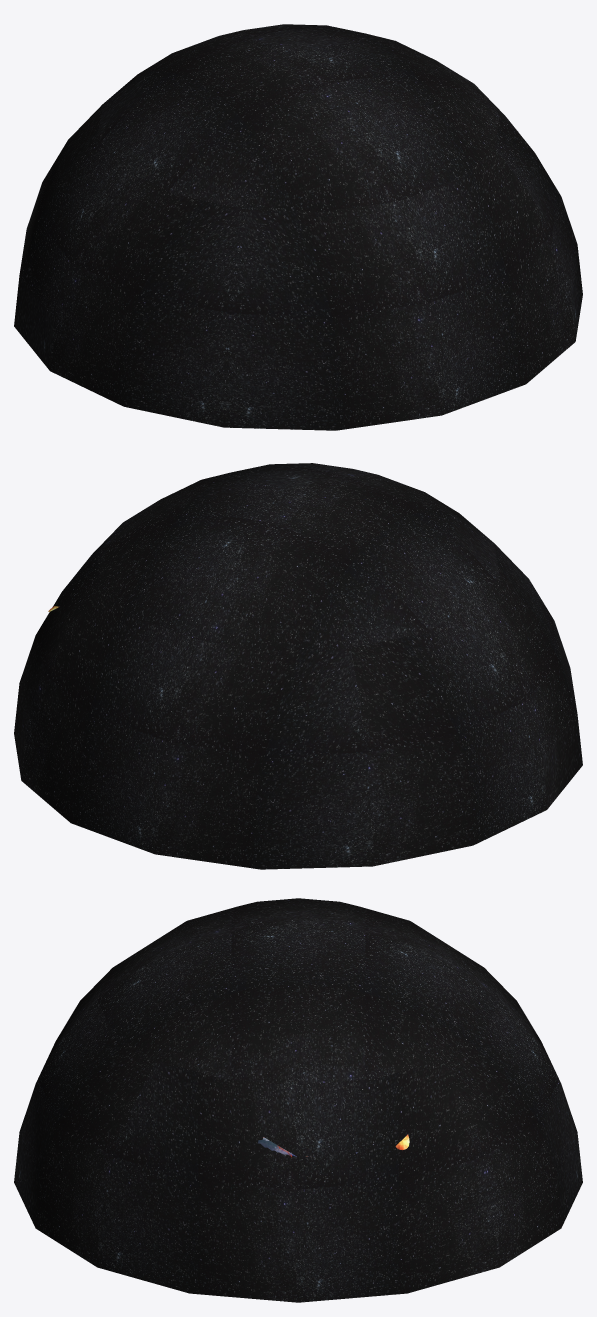
Rendered from Mars.fbx.
3 renders of one model, top to bottom at view 1: azimuth 30°, elevation 25°; view 2: azimuth 150°, elevation 25°; view 3: azimuth 270°, elevation 25°, orthographic.
Parts seen in each view (by area): view 1: Sphere; view 2: Sphere; view 3: Sphere.
Part boxes in pixels (x1,y1,x2,y2): Sphere: (14,24,582,430); Sphere: (14,463,582,869); Sphere: (14,898,582,1302).
Size of the model in its own units: 889432 by 444716 by 889432.
22 materials, 18 textured.
